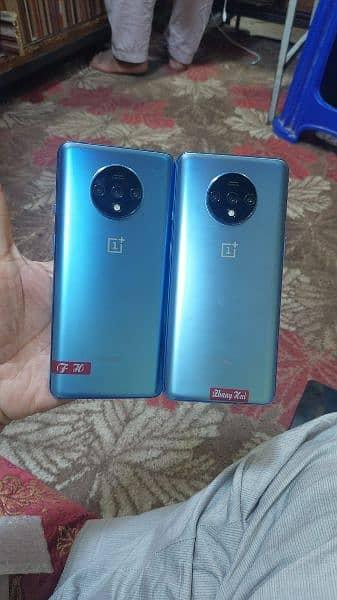Smart Phone: (163, 153, 289, 405)
